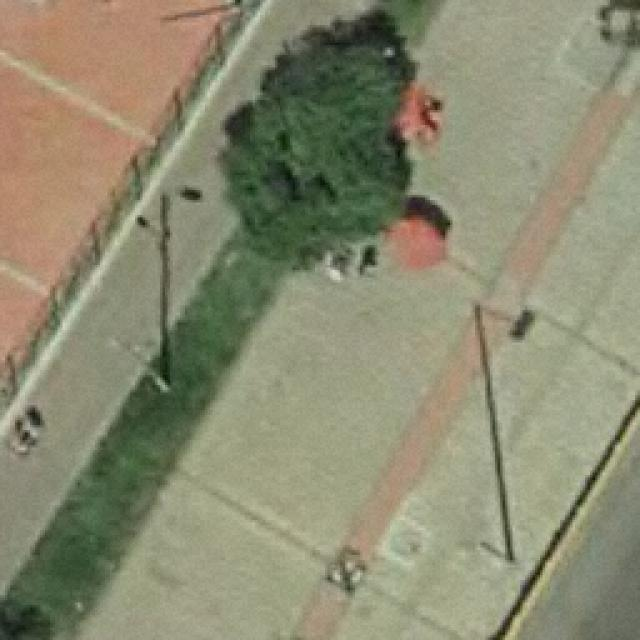vendedor_ambulante: (382, 208, 452, 274)
